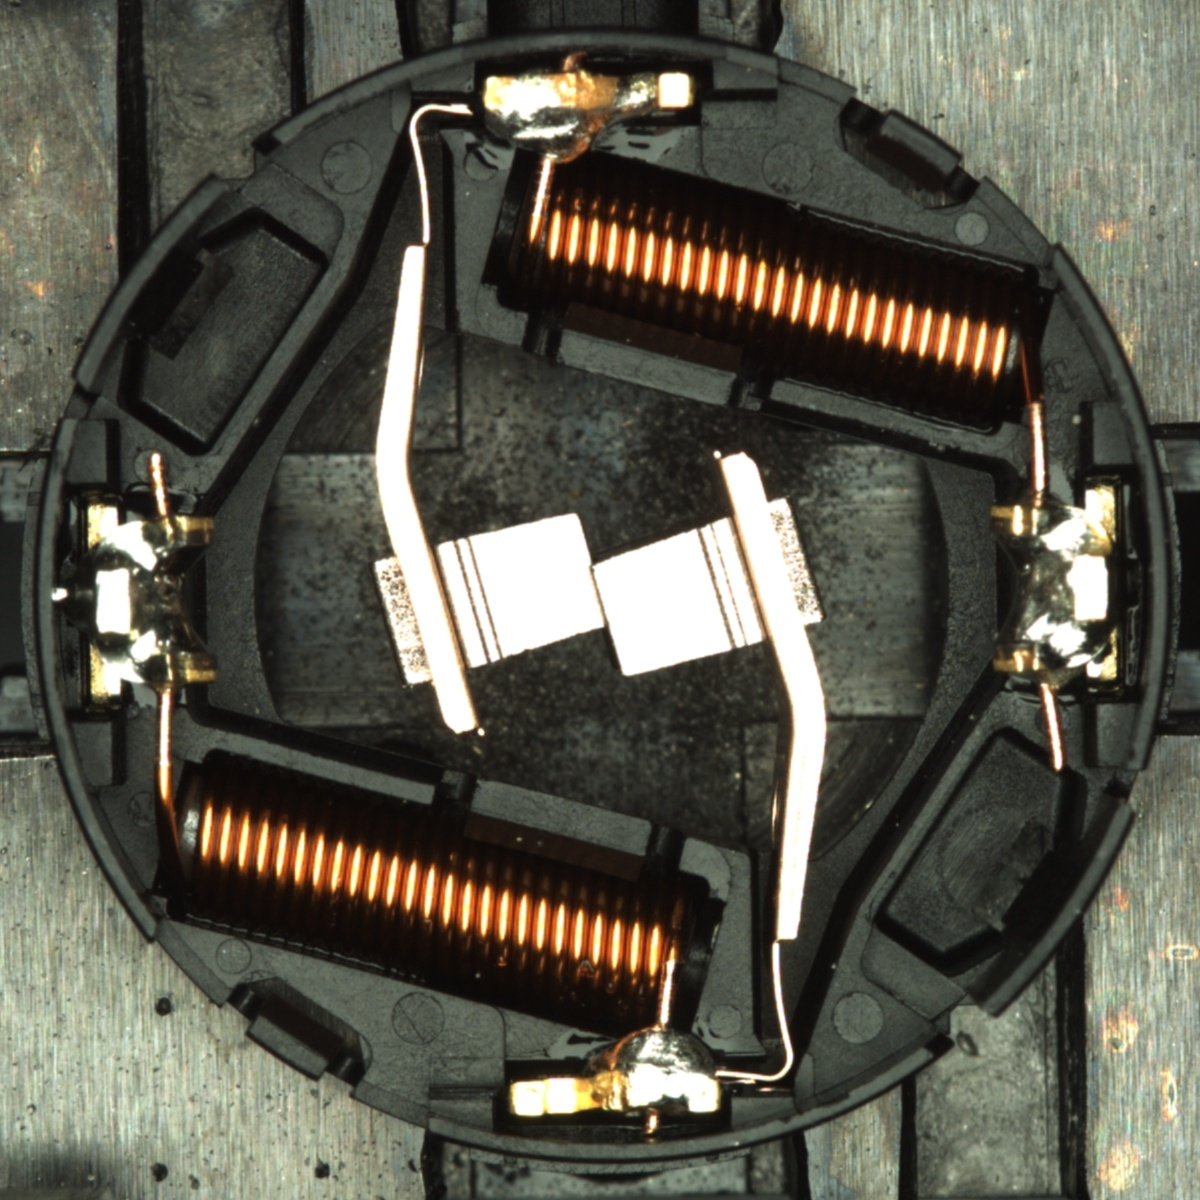1: (713, 929, 943, 1154), (255, 32, 485, 256)
2: (255, 929, 485, 1154), (713, 32, 943, 256)
3: (943, 704, 1173, 929), (26, 256, 255, 480)
4: (255, 256, 485, 480), (713, 704, 943, 929)
5: (485, 816, 713, 1042), (485, 144, 713, 368)
6: (713, 256, 943, 480), (255, 704, 485, 929)
7: (943, 256, 1173, 480), (26, 704, 255, 929)
cacbon: (399, 500, 799, 685)
chau_dien: (82, 499, 222, 699), (984, 487, 1123, 686)
chi_dinh_thanh_de: (47, 579, 73, 610)
tay_choi: (480, 67, 699, 168), (507, 1021, 723, 1119)
thanh_de: (955, 784, 1144, 1033), (60, 164, 245, 405)
